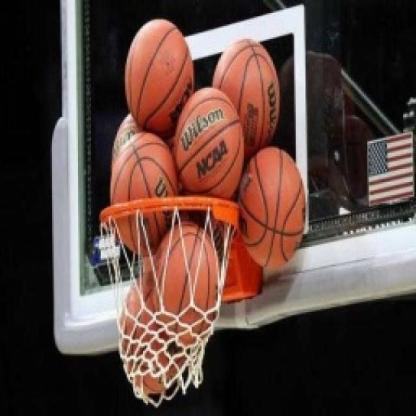basketball: (235, 146, 308, 273), (152, 224, 226, 349), (106, 134, 182, 251), (124, 18, 198, 137), (118, 282, 192, 399), (213, 37, 286, 150), (176, 87, 246, 204)
